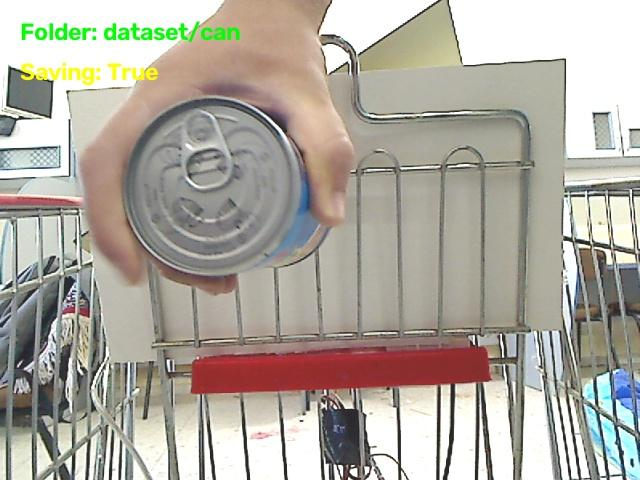can: (124, 97, 327, 276)
